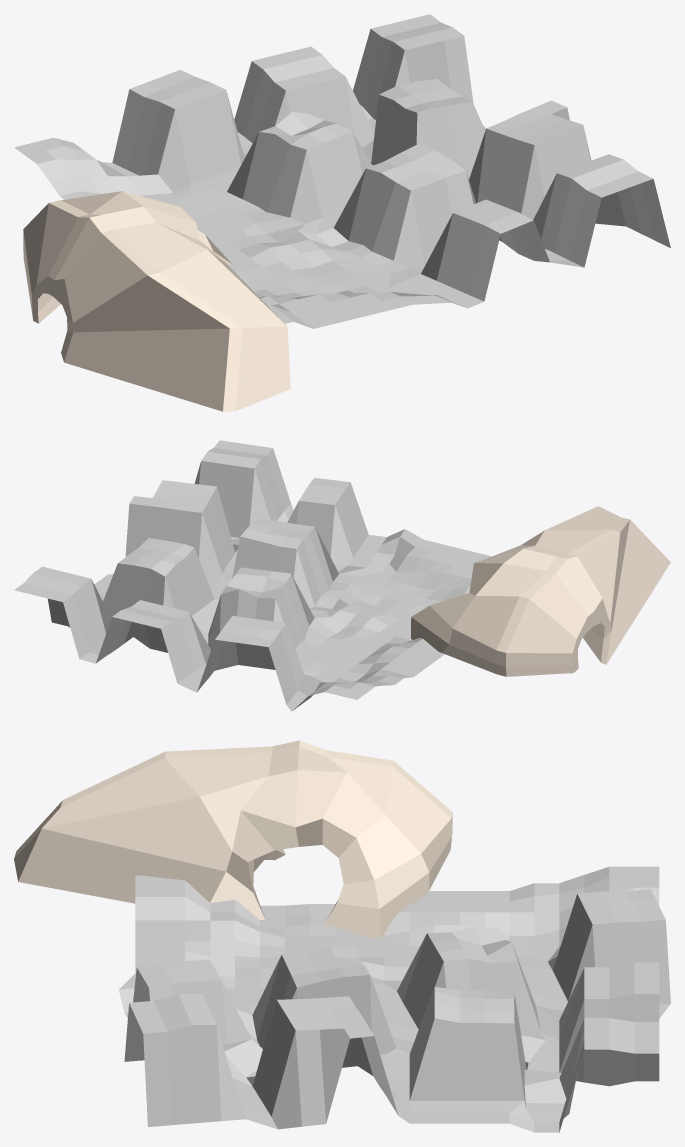
Rendered from 042220scene02Draft.gltf.
3 renders of one model, top to bottom at view 1: azimuth 30°, elevation 25°; view 2: azimuth 150°, elevation 25°; view 3: azimuth 270°, elevation 25°, orthographic. The views are drawn at different scales.
Visible parts, largest first — view 1: Plane.001, Cube.026; view 2: Plane.001, Cube.026; view 3: Plane.001, Cube.026.
Boxes of the visible parts, left/top/right/bottom form: Plane.001: left=14, top=14, right=670, bottom=328; Cube.026: left=23, top=191, right=290, bottom=411; Plane.001: left=14, top=440, right=491, bottom=711; Cube.026: left=411, top=506, right=670, bottom=676; Plane.001: left=119, top=866, right=670, bottom=1132; Cube.026: left=14, top=740, right=452, bottom=937.
Size of the model in its own units: 79.73 by 17.6 by 75.23.
